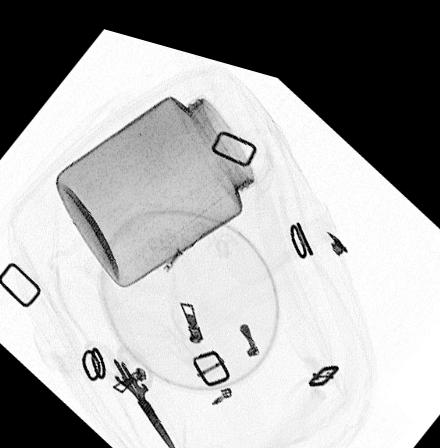Scissors: (81, 336, 183, 448)
